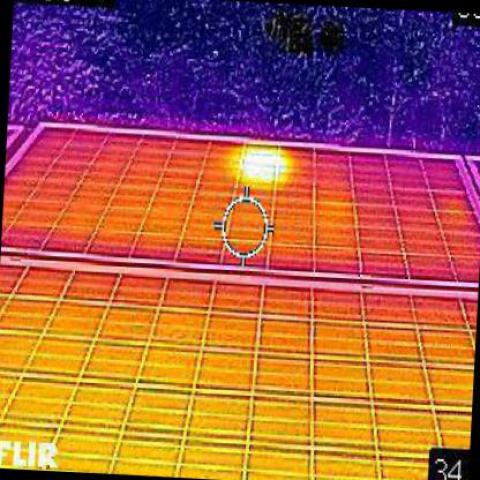fault: (240, 146, 284, 176)
